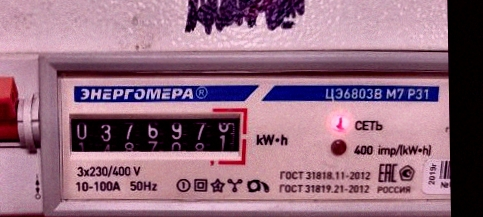0: (74, 120, 88, 140)
1: (217, 133, 228, 151)
3: (98, 122, 112, 142)
6: (145, 118, 159, 139)
7: (121, 119, 135, 140), (193, 119, 206, 141)
9: (169, 119, 182, 141)
screen: (61, 102, 252, 168)
